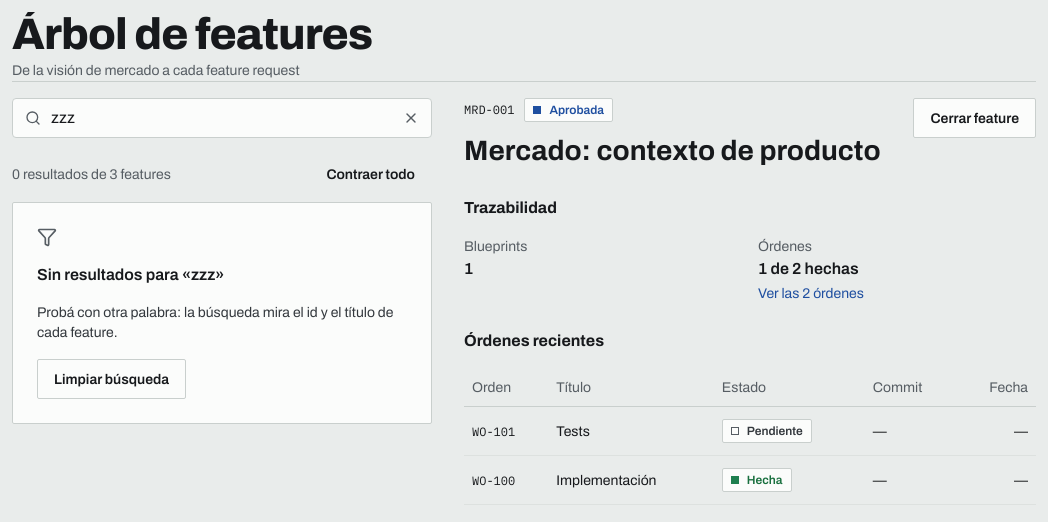
Scenario: ProjectGraph (árbol de features) › buscador en la URL (SDD-083) › shows its own empty state with a clear action when nothing matches (D3)
Expected: the text "Sin resultados para «zzz»" is shown, [37,263,224,287]
What coordinates should you click on to do the following:
click the button "Limpiar búsqueda"
I would click on:
 (112, 379)
Its box is [37,359,186,399].
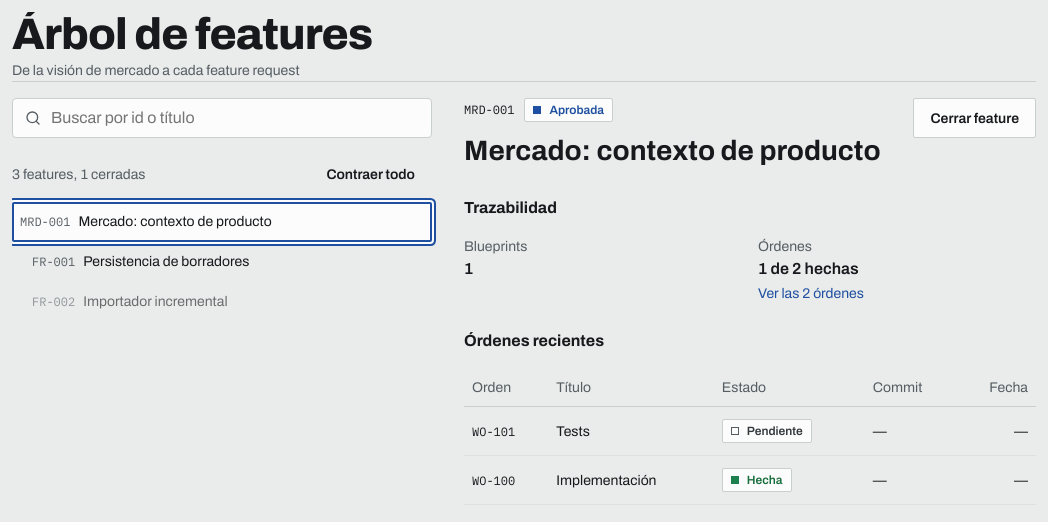
Expected: the element named "Árbol de features" is shown, [12,202,432,322]
